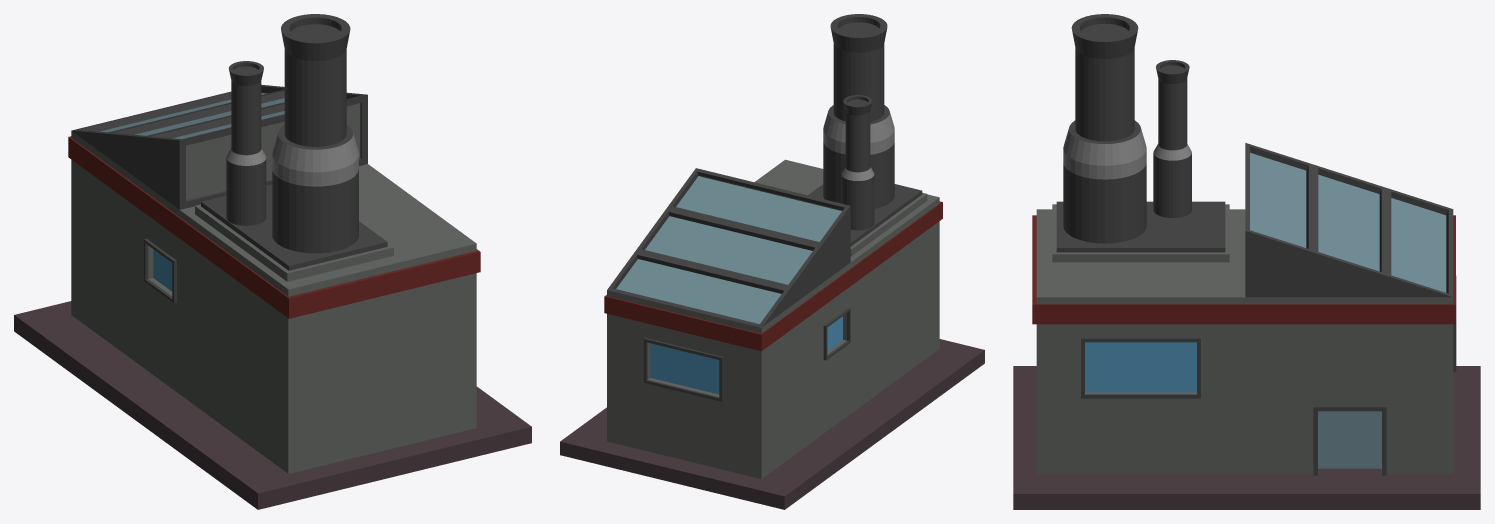
The model's file is Fabriek.fbx.
The picture shows the model from 3 angles, left to right: view 1: azimuth 30°, elevation 25°; view 2: azimuth 150°, elevation 25°; view 3: azimuth 270°, elevation 25°; orthographic projection. The views are drawn at different scales.
Visible parts, largest first — view 1: Cube, Cube.001, Cylinder, Cylinder.001; view 2: Cube, Cube.001, Cylinder, Cylinder.001; view 3: Cube, Cube.001, Cylinder, Cylinder.001.
Boxes of the visible parts, bbox=[...] form: Cube: bbox=[68, 84, 480, 473]; Cube.001: bbox=[14, 301, 531, 509]; Cylinder: bbox=[272, 14, 358, 253]; Cylinder.001: bbox=[226, 61, 266, 225]; Cube: bbox=[604, 159, 942, 478]; Cube.001: bbox=[560, 339, 984, 509]; Cylinder: bbox=[823, 14, 894, 208]; Cylinder.001: bbox=[841, 95, 874, 230]; Cube: bbox=[1032, 143, 1456, 475]; Cube.001: bbox=[1013, 366, 1480, 509]; Cylinder: bbox=[1063, 14, 1146, 243]; Cylinder.001: bbox=[1153, 60, 1191, 217].
Bounding box in the file's own units: 291 × 427 × 449.
